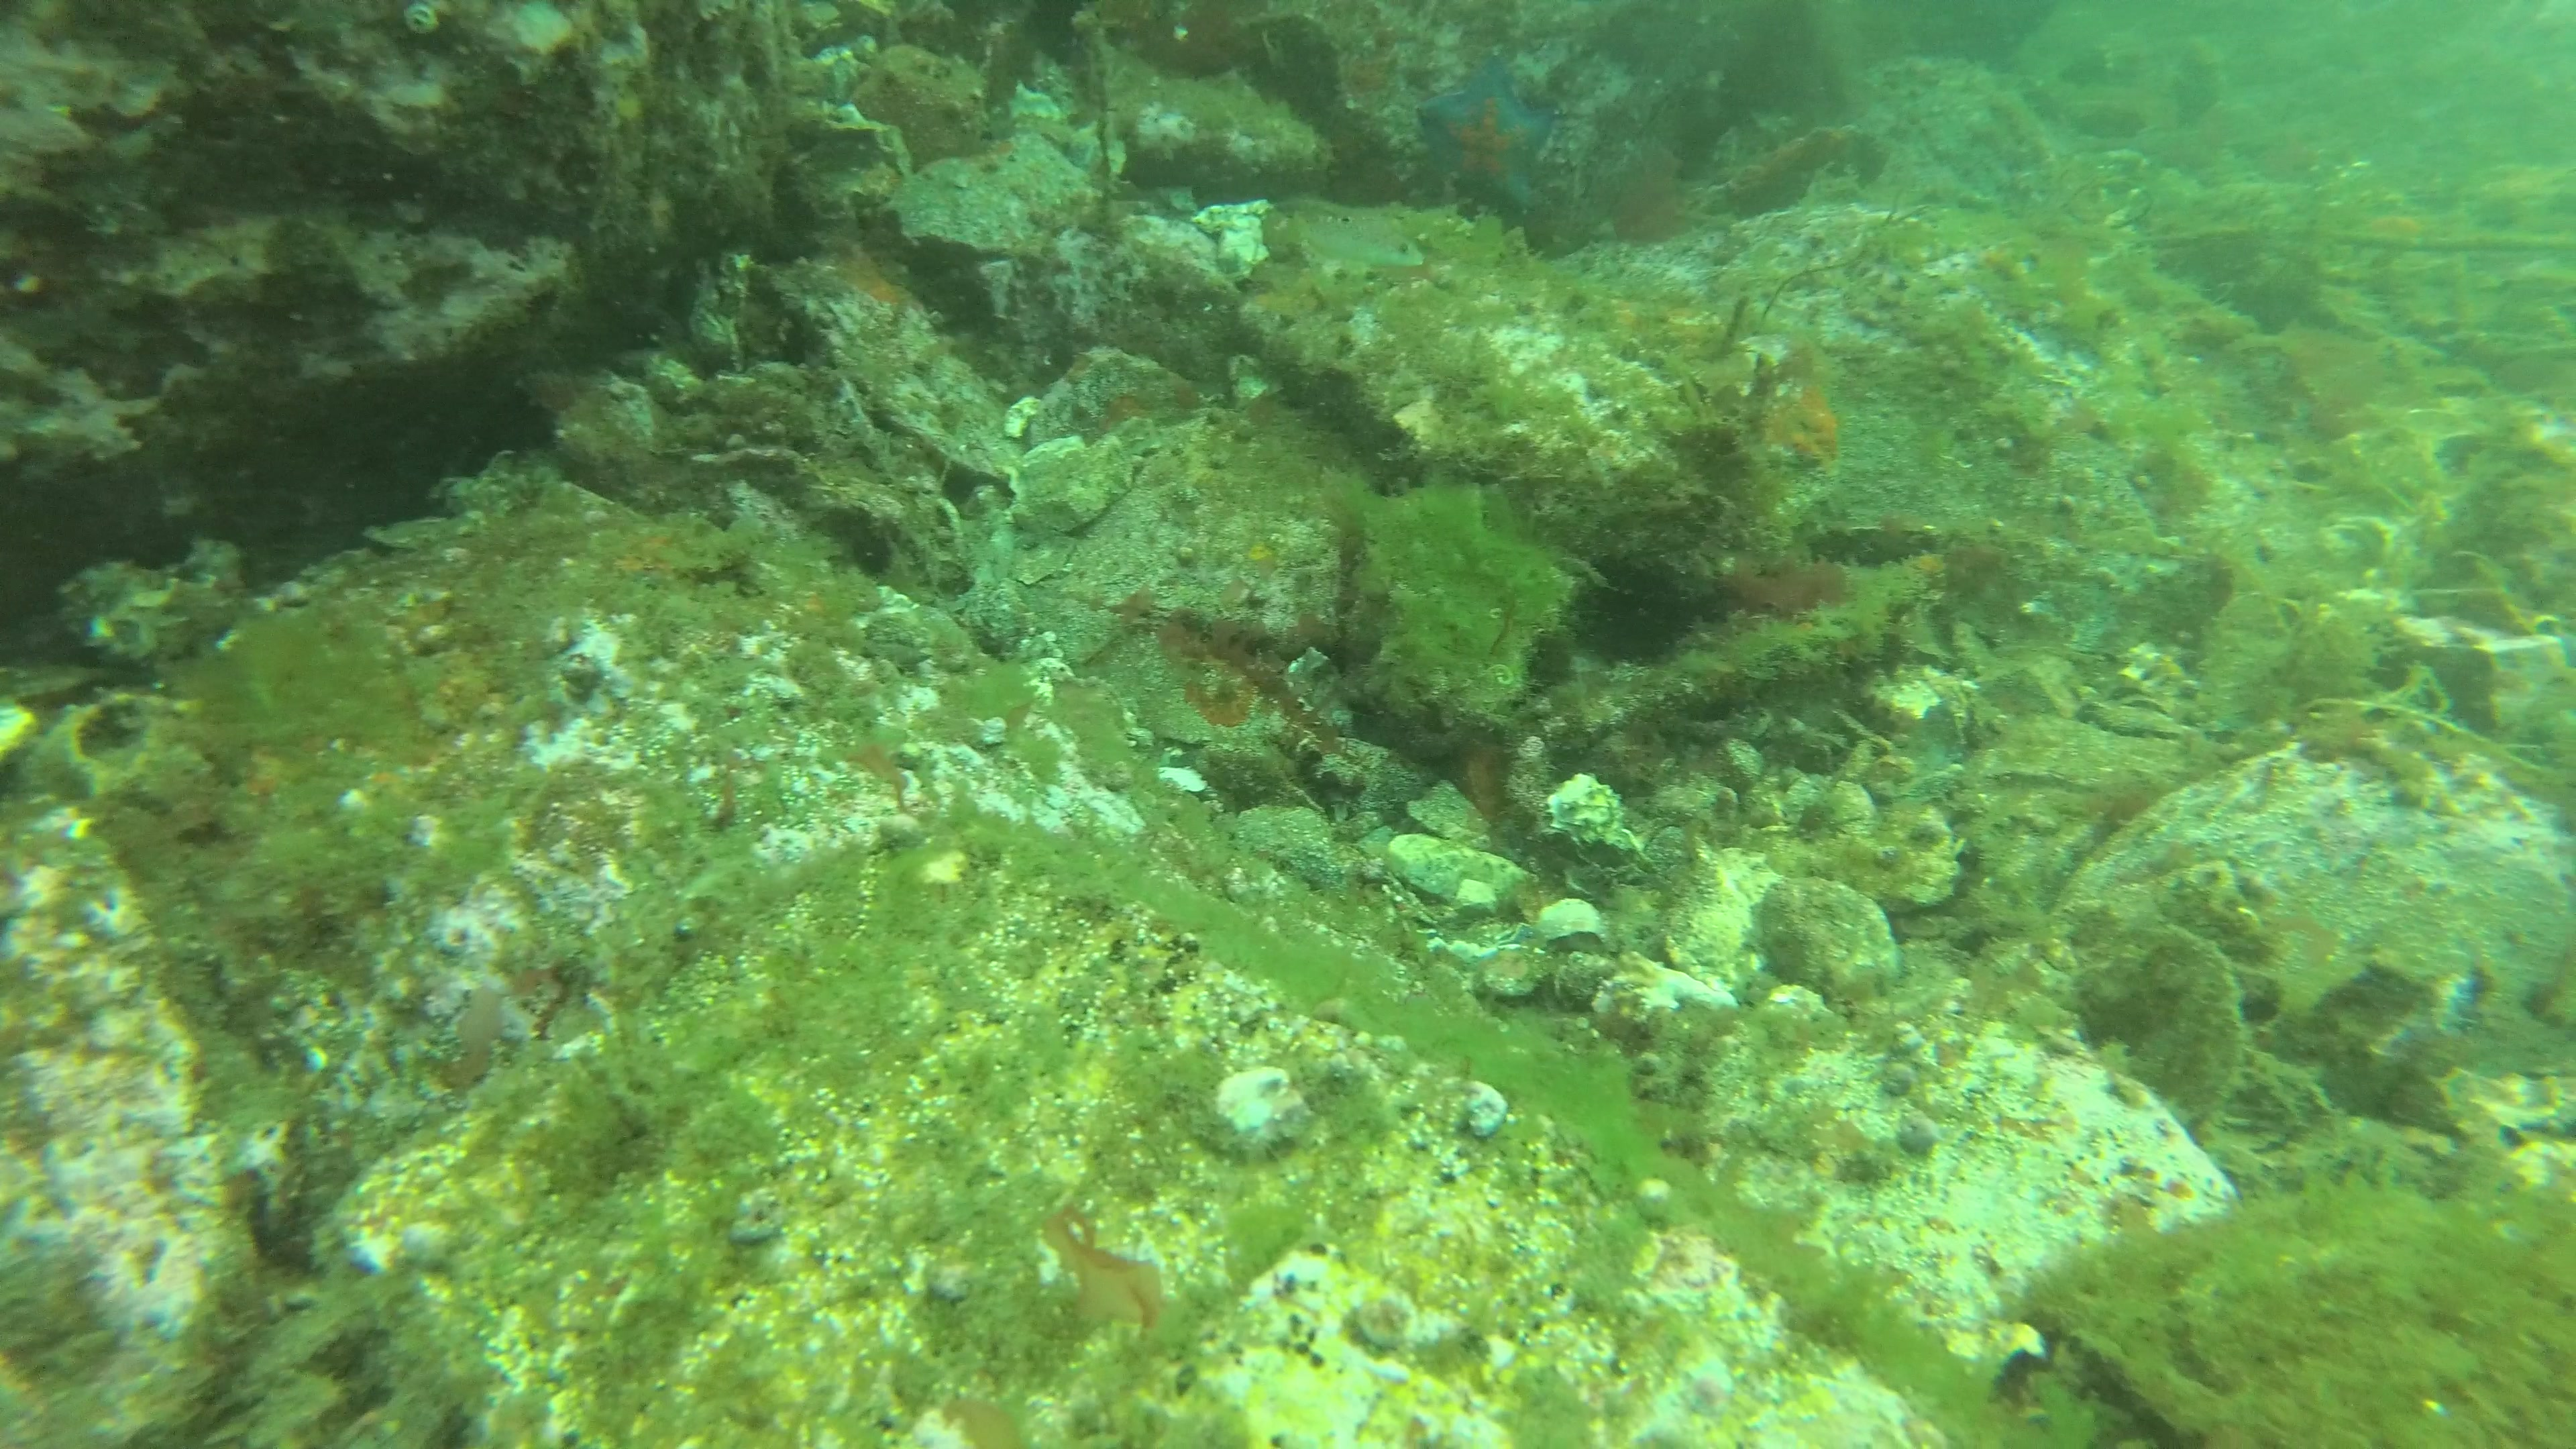starfish: (1414, 53, 1555, 214)
